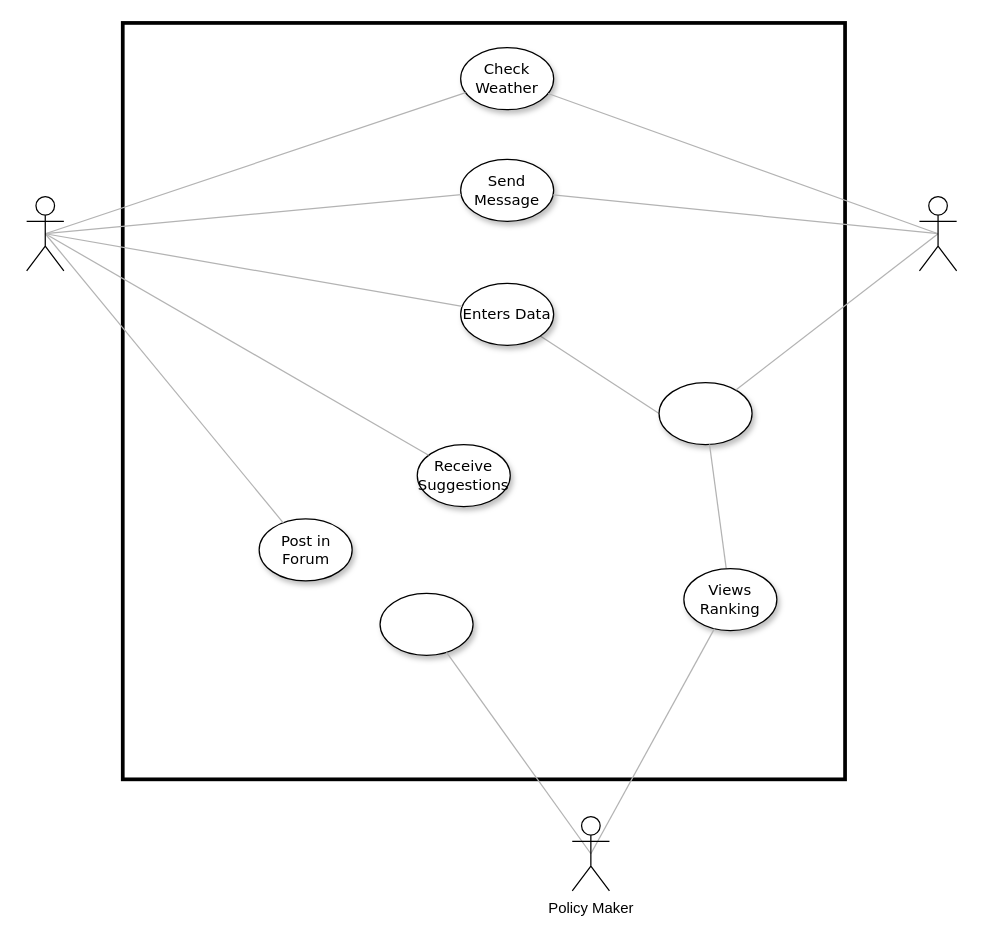
Some shapes in this 997 by 939 pixel diagram are drawn without their labels. Each missing label, with the centre of its shape:
"Agronomist" goes at pixel 937 233.
"Farmer" goes at pixel 44 233.
"Flags Farmers" goes at pixel 427 625.
"Receives Daily Plan" goes at pixel 706 414.
